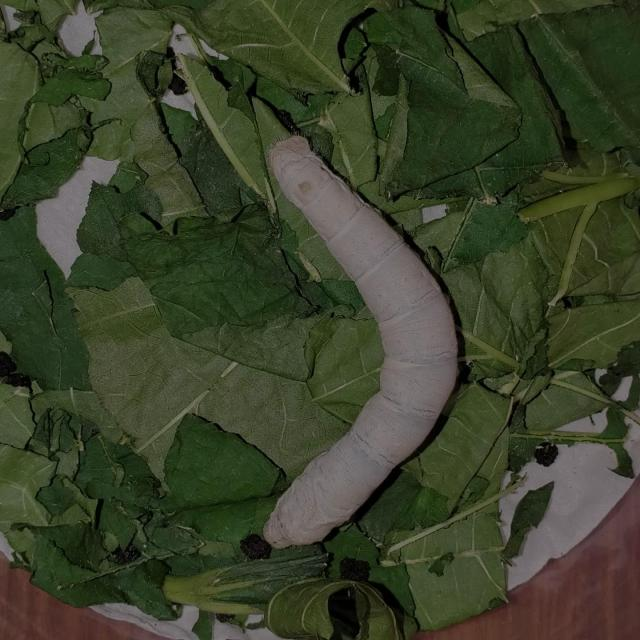Healthy: (256, 126, 464, 552)
